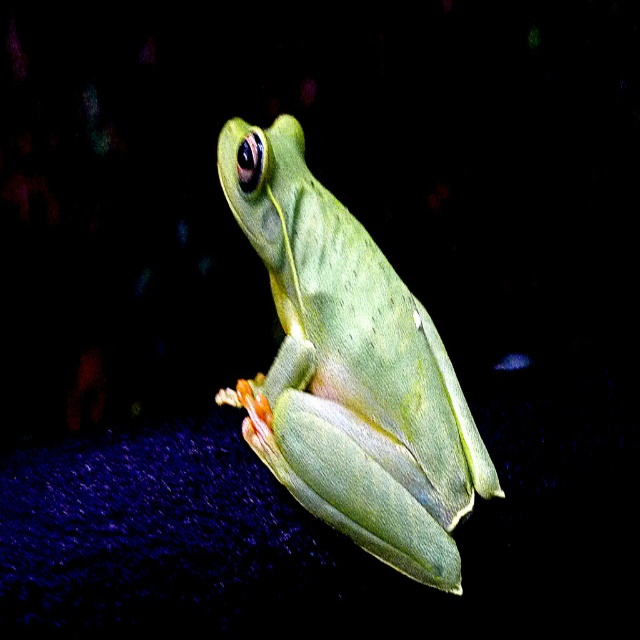Frog: (216, 113, 505, 593)
